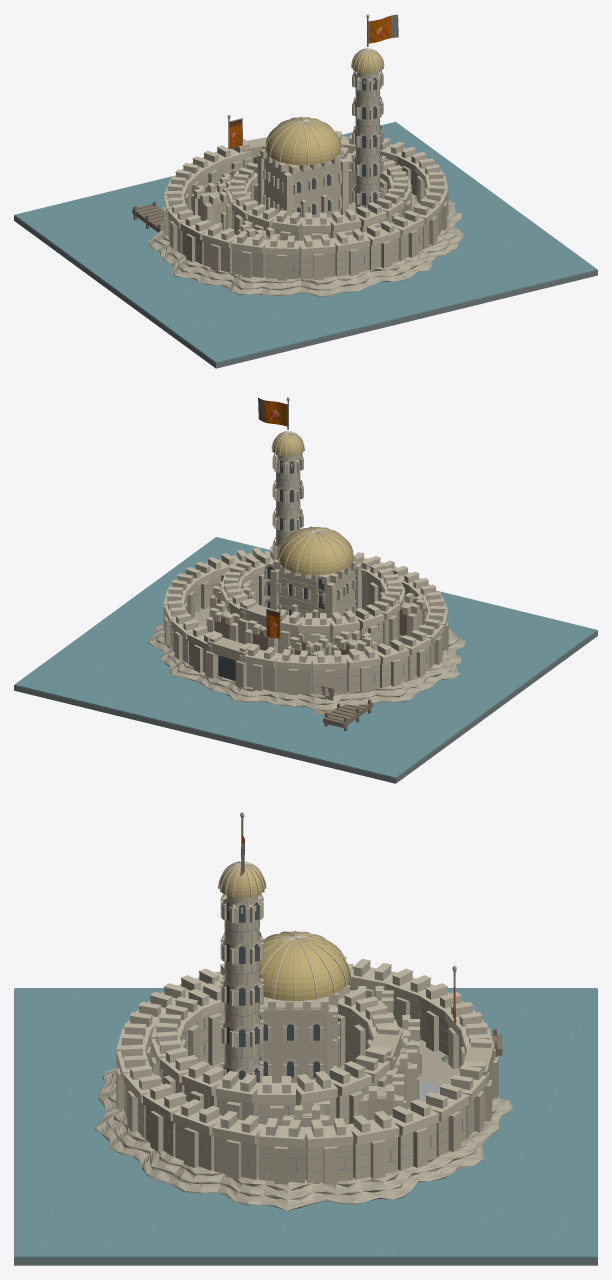
File: sunspear.glb
3 views of the same model, one above another, from view 1: azimuth 30°, elevation 25°; view 2: azimuth 150°, elevation 25°; view 3: azimuth 270°, elevation 25° (orthographic). The views are drawn at different scales.
Parts seen in each view (by area): view 1: ساناسپیر; view 2: ساناسپیر; view 3: ساناسپیر.
Boxes of the visible parts, left/top/right/bottom form: ساناسپیر: left=14, top=14, right=597, bottom=368; ساناسپیر: left=14, top=397, right=597, bottom=783; ساناسپیر: left=14, top=812, right=597, bottom=1265.
Bounding box in the file's own units: 12 × 7.22 × 11.
Materials: 2 (1 with a texture image).
